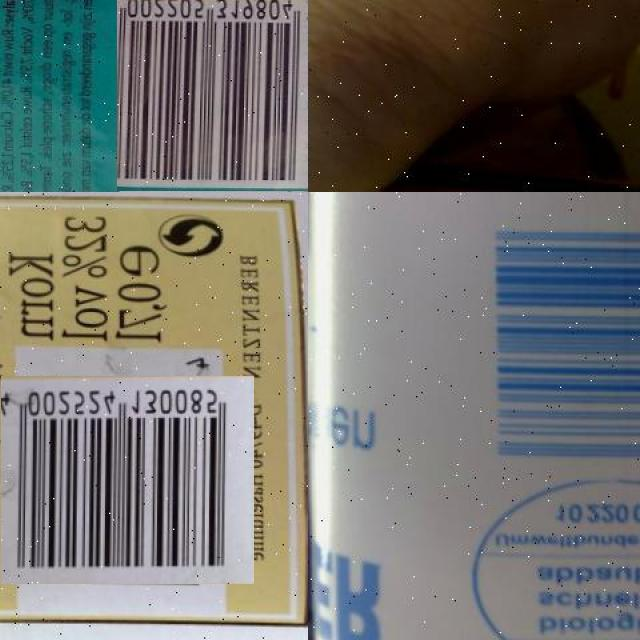Barcode: (3, 362, 240, 598), (471, 192, 640, 480), (117, 0, 308, 192)
